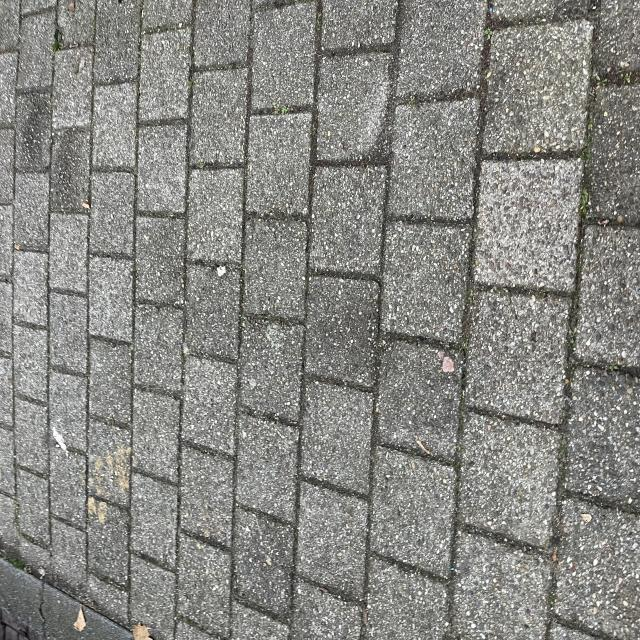pavement: (2, 1, 477, 640)
